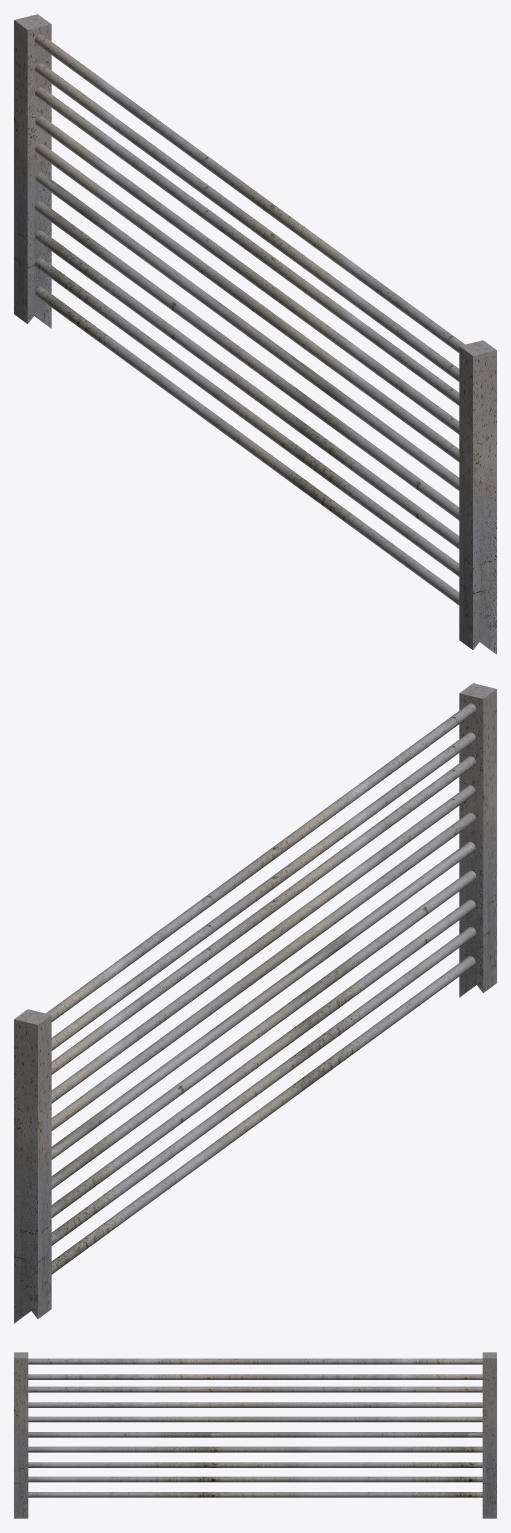
Rendered from barbs_no_rotation.FBX.
The picture shows the model from 3 angles, top to bottom: view 1: azimuth 30°, elevation 25°; view 2: azimuth 150°, elevation 25°; view 3: azimuth 270°, elevation 25°; orthographic projection. The views are drawn at different scales.
Parts seen in each view (by area): view 1: Box006, Box004, Cylinder028, Cylinder022, Cylinder021, Cylinder024, Cylinder029, Cylinder026, Cylinder023, Cylinder020, Cylinder025, Cylinder027; view 2: Box004, Box006, Cylinder028, Cylinder022, Cylinder021, Cylinder029, Cylinder024, Cylinder023, Cylinder026, Cylinder025, Cylinder020, Cylinder027; view 3: Cylinder028, Cylinder024, Cylinder026, Cylinder021, Cylinder022, Cylinder025, Cylinder029, Cylinder027, Cylinder023, Cylinder020, Box004, Box006.
Part boxes in pixels (x1,y1,x2,y2): Box006: (459,340,496,654); Box004: (14,14,51,328); Cylinder028: (34,34,464,352); Cylinder022: (34,201,459,520); Cylinder021: (34,258,459,576); Cylinder024: (35,87,459,405); Cylinder029: (35,63,459,381); Cylinder026: (35,143,459,461); Cylinder023: (35,230,459,548); Cylinder020: (35,287,459,605); Cylinder025: (35,116,459,434); Cylinder027: (35,172,459,490); Box004: (14,1009,51,1323); Box006: (459,683,496,997); Cylinder028: (46,703,476,1021); Cylinder022: (51,870,476,1189); Cylinder021: (51,927,476,1245); Cylinder029: (51,732,475,1050); Cylinder024: (51,756,475,1074); Cylinder023: (51,899,475,1217); Cylinder026: (51,812,475,1130); Cylinder025: (51,785,475,1103); Cylinder020: (51,956,475,1274); Cylinder027: (51,841,475,1159); Cylinder028: (28,1358,482,1364); Cylinder024: (28,1386,482,1392); Cylinder026: (28,1416,482,1422); Cylinder021: (28,1476,482,1482); Cylinder022: (28,1446,482,1452); Cylinder025: (28,1402,482,1407); Cylinder029: (28,1374,482,1379); Cylinder027: (28,1432,482,1437); Cylinder023: (28,1462,482,1467); Cylinder020: (28,1492,482,1497); Box004: (482,1352,496,1518); Box006: (14,1352,28,1518).
Size of the model in its own units: 0.3001 by 3.66 by 10.
1 material, 1 textured.
